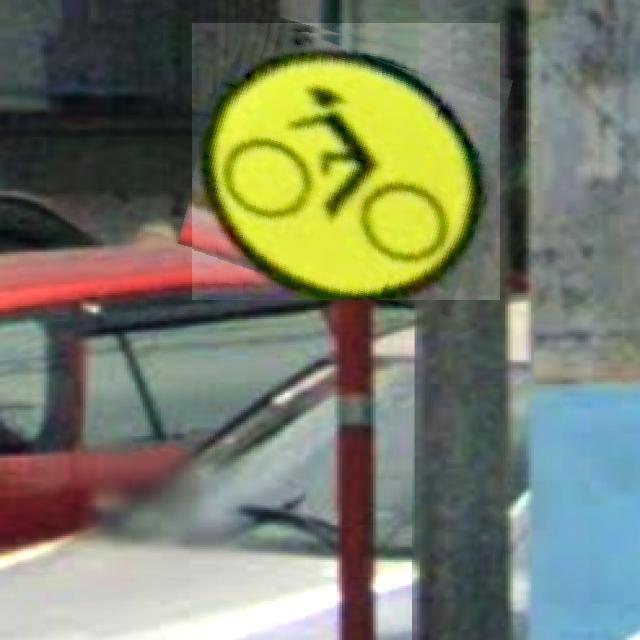bike lane: (192, 23, 500, 300)
